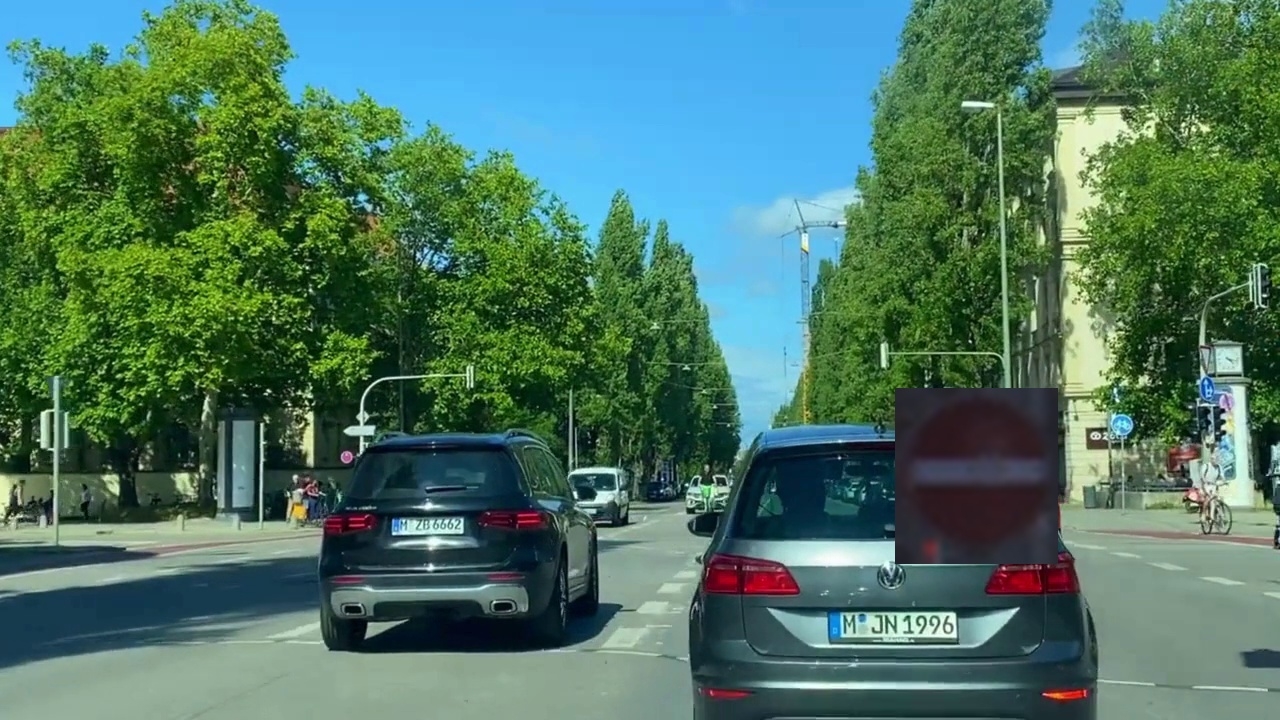No entry: (895, 388, 1058, 564)
